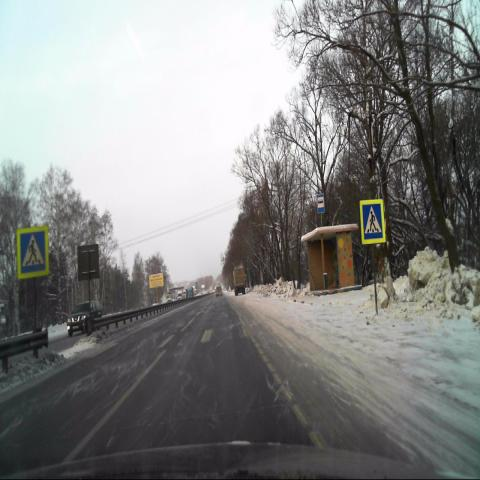5_16: (316, 194, 324, 214)
5_19_1: (18, 229, 46, 277), (361, 201, 384, 241)
